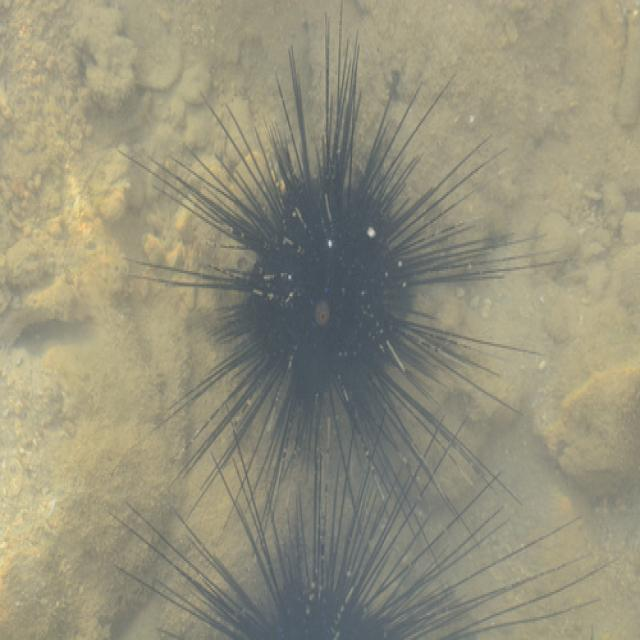Urchin: (123, 8, 567, 526), (122, 413, 620, 636)
